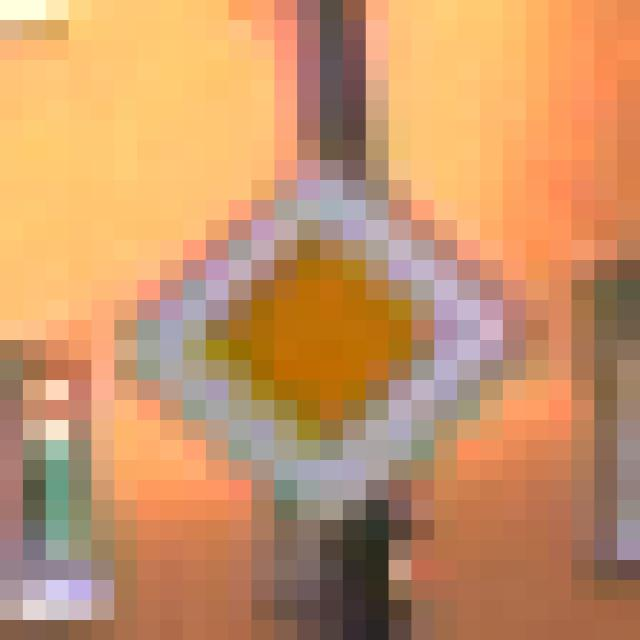Main Road: (138, 121, 527, 541)
